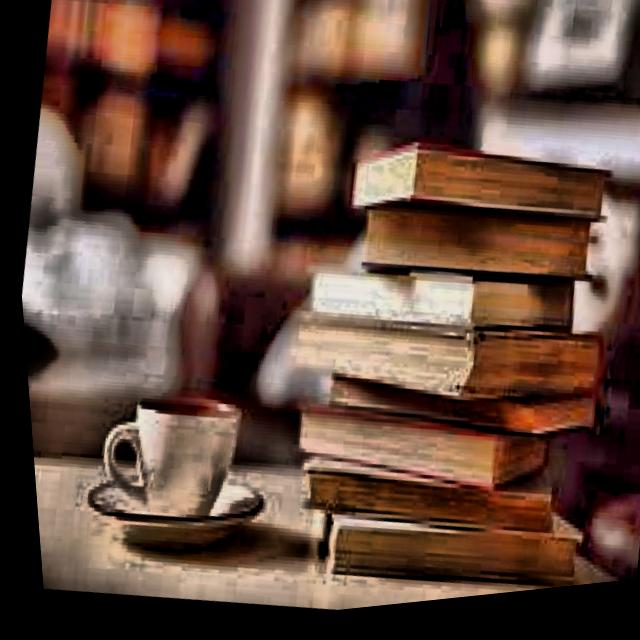Paper: (334, 117, 611, 267), (276, 373, 548, 525), (315, 294, 601, 436), (284, 242, 574, 378), (294, 483, 578, 619), (311, 354, 593, 482), (285, 434, 551, 562), (348, 185, 595, 313)
